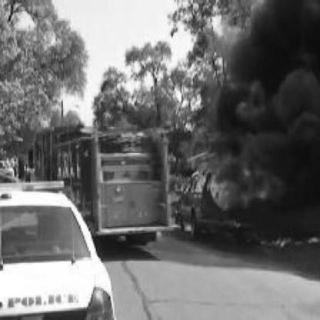Fire: (187, 150, 287, 208)
